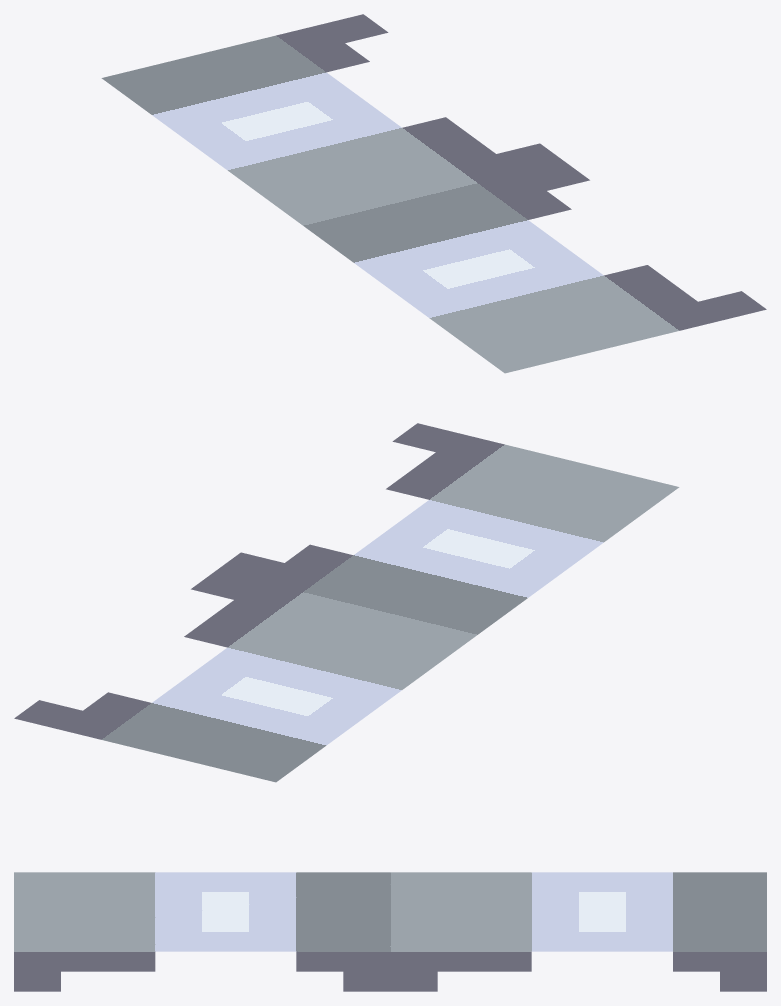
3 renders of one model, top to bottom at view 1: azimuth 30°, elevation 25°; view 2: azimuth 150°, elevation 25°; view 3: azimuth 270°, elevation 25°, orthographic. The views are drawn at different scales.
Size of the model in its own units: 0.5 by 0 by 1.
1 material, 1 textured.
